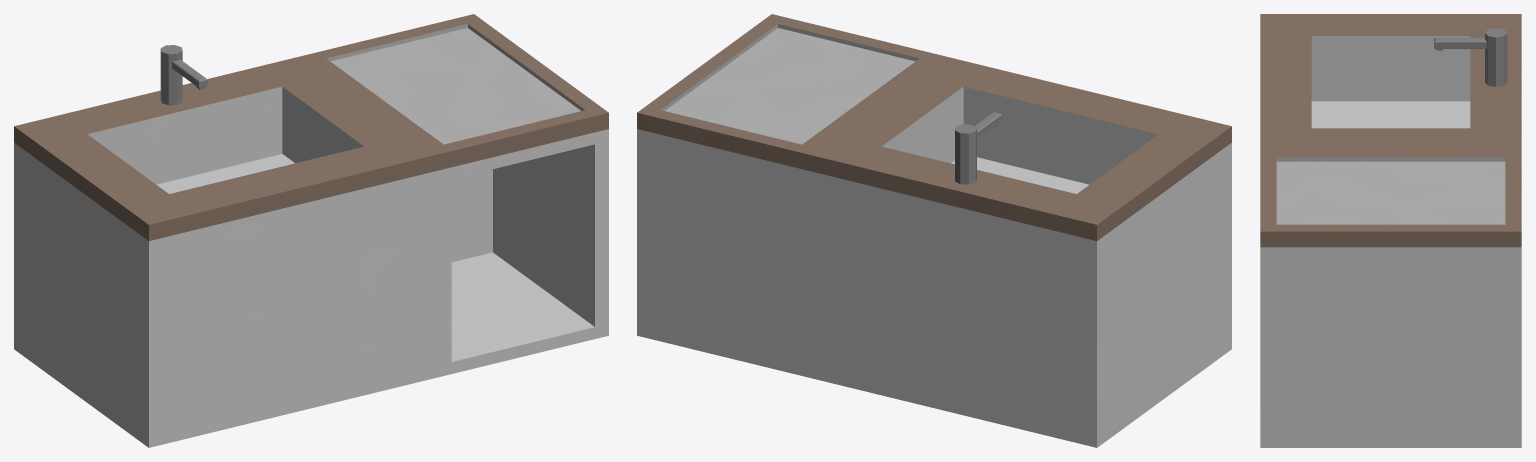
File: Kitchen_Sink_04.fbx
3 renders of one model, left to right at view 1: azimuth 30°, elevation 25°; view 2: azimuth 150°, elevation 25°; view 3: azimuth 270°, elevation 25°, orthographic. The views are drawn at different scales.
Parts seen in each view (by area): view 1: Kitchen_Sink_04; view 2: Kitchen_Sink_04; view 3: Kitchen_Sink_04.
Part boxes in pixels (x1,y1,x2,y2): Kitchen_Sink_04: (14, 14, 608, 447); Kitchen_Sink_04: (637, 14, 1231, 447); Kitchen_Sink_04: (1260, 14, 1521, 447).
Size of the model in its own units: 1.85 by 1.05 by 0.9387.
